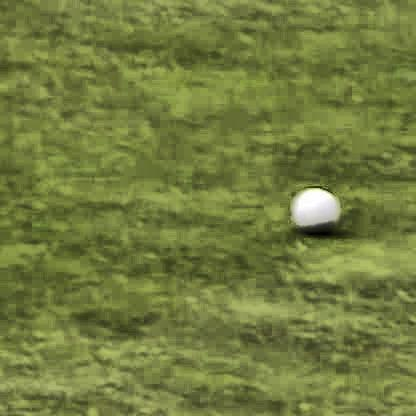golfball: (289, 184, 339, 232)
